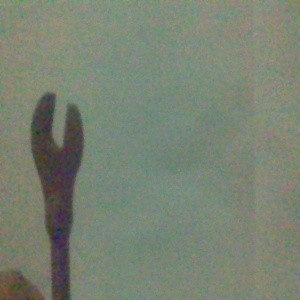spanner: (30, 92, 85, 300)
